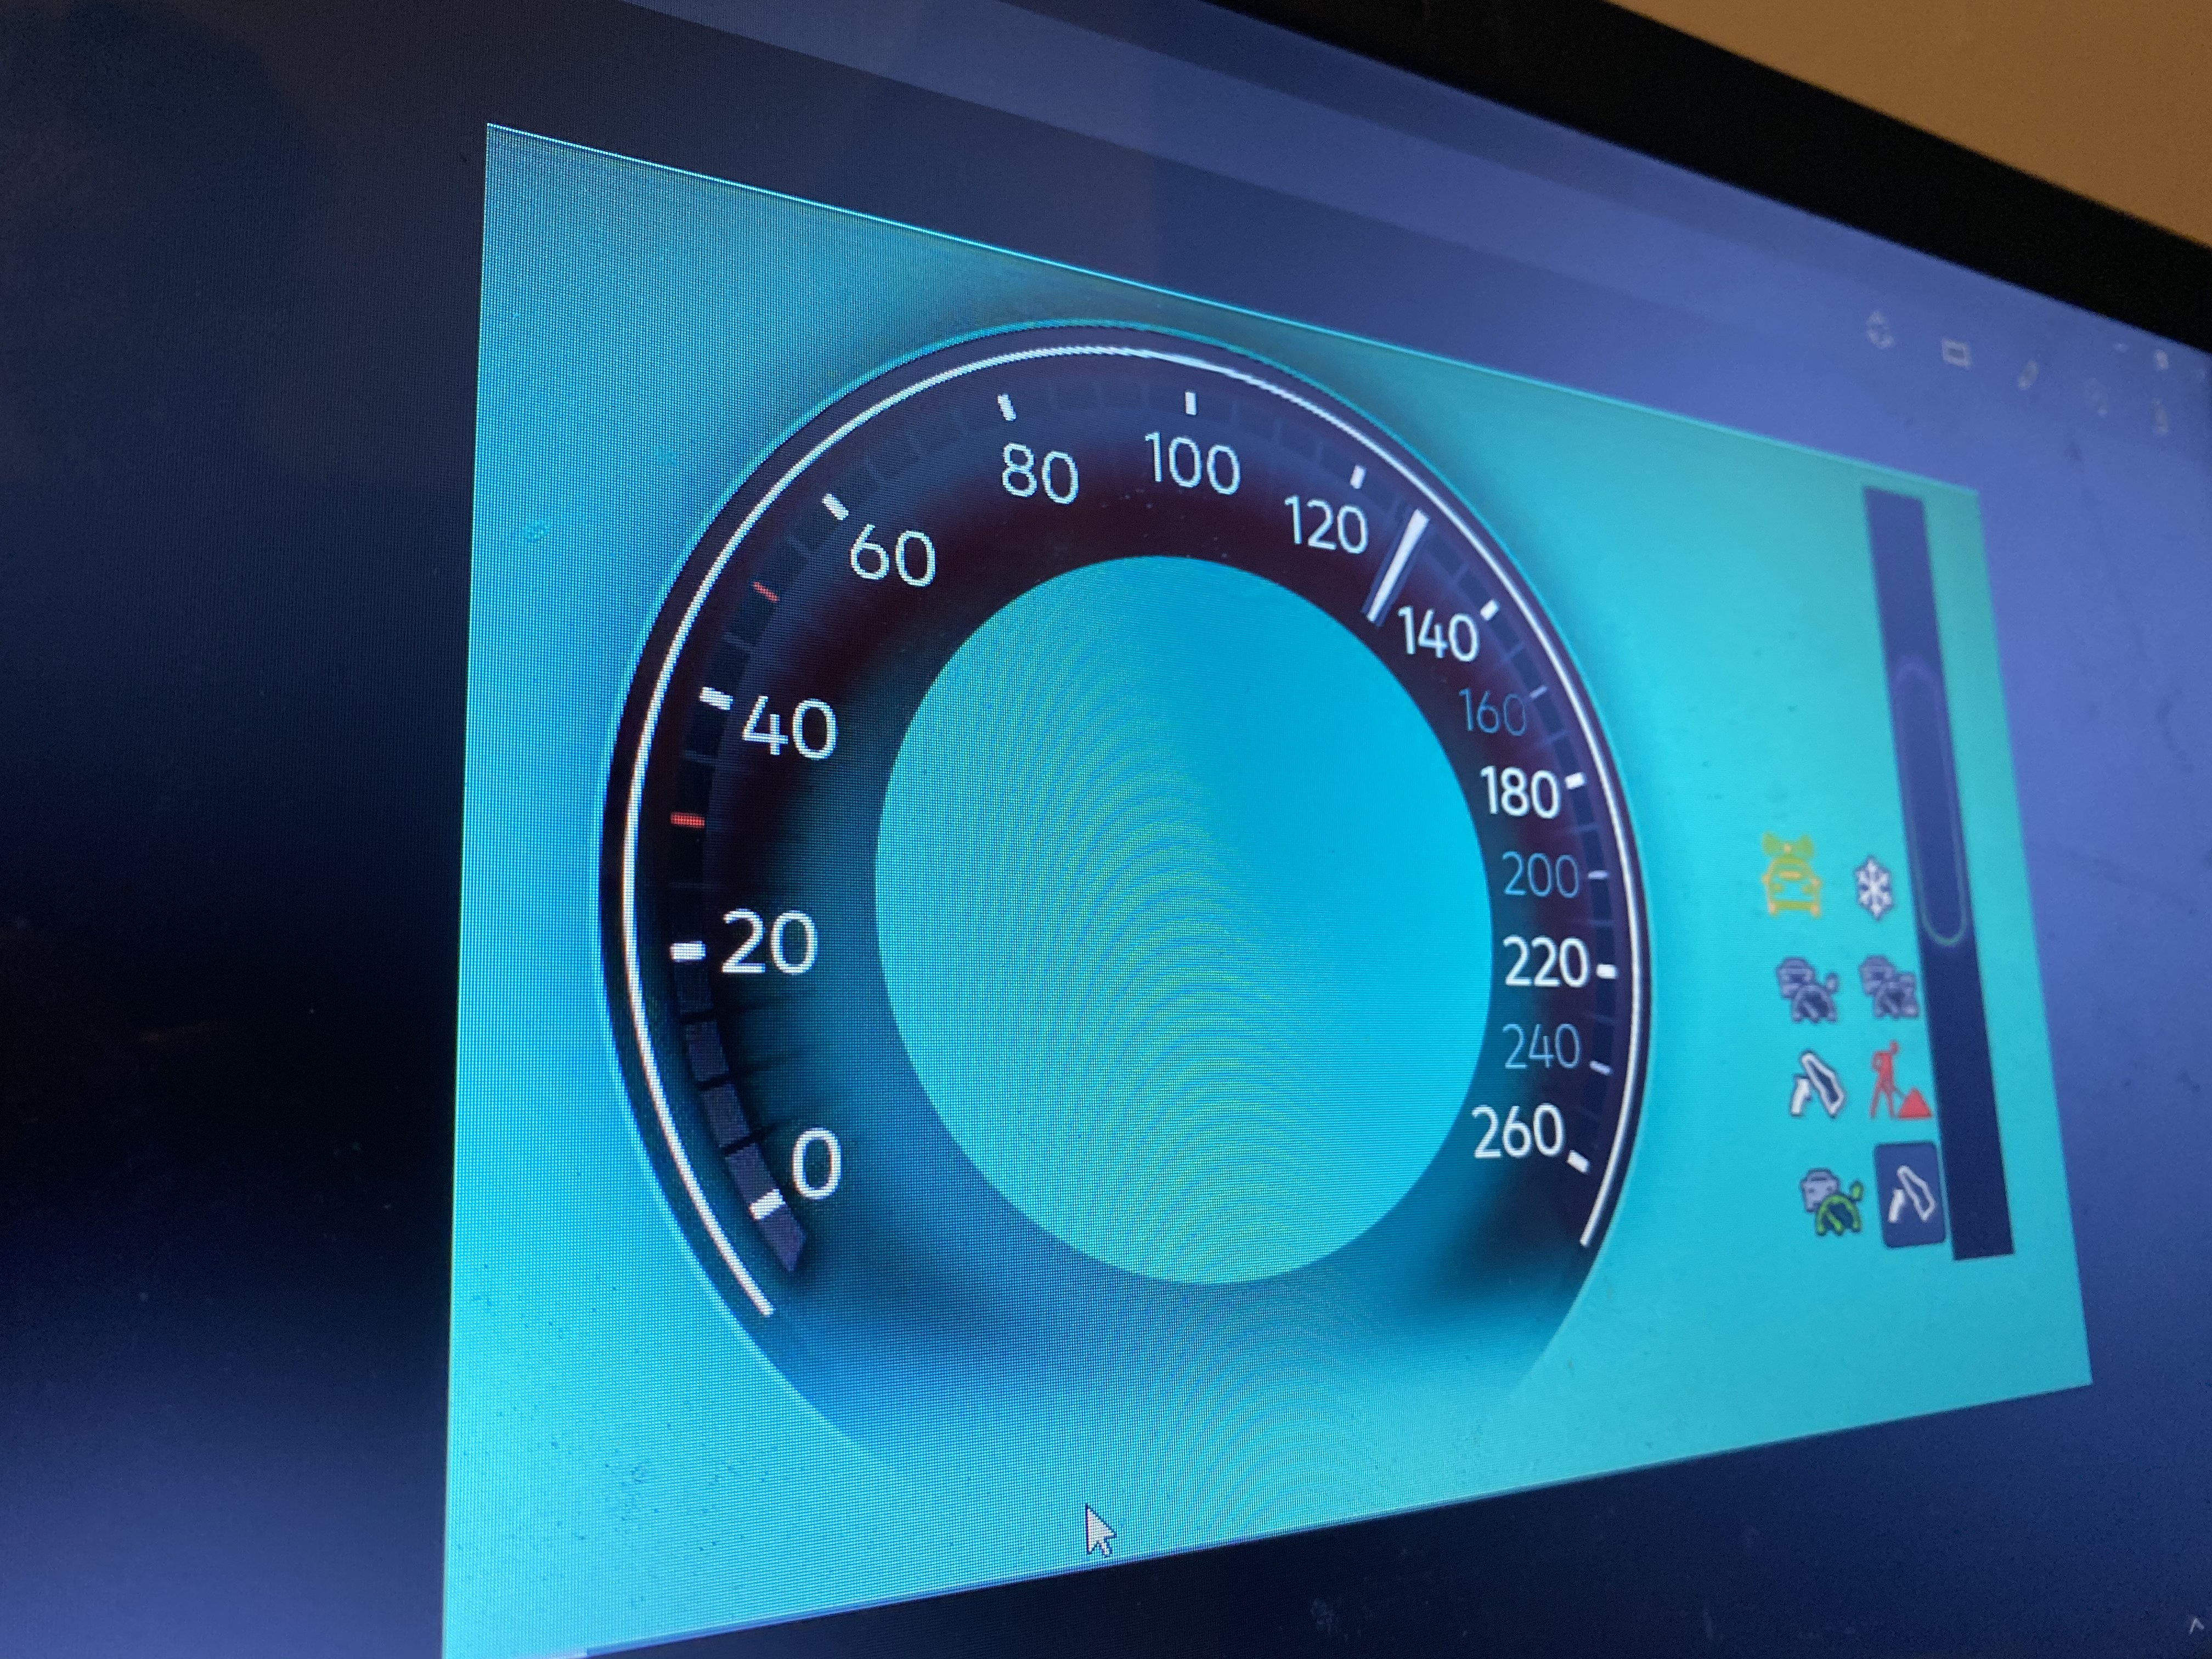ACCELERATOR: (1771, 1047, 1858, 1133)
ACCELERATOR_R: (1874, 1147, 1946, 1249)
ACC_AKTIV: (1759, 946, 1846, 1033)
ACC_OVER: (1780, 1150, 1867, 1246)
ACC_WAITING: (1855, 951, 1925, 1030)
CONSTRUCTION: (1869, 1037, 1939, 1133)
EISSTERN: (1848, 843, 1902, 927)
SEV_INF: (1745, 828, 1834, 925)
SLIDER: (1890, 648, 1977, 950)
TUBE: (545, 312, 1681, 1535)
